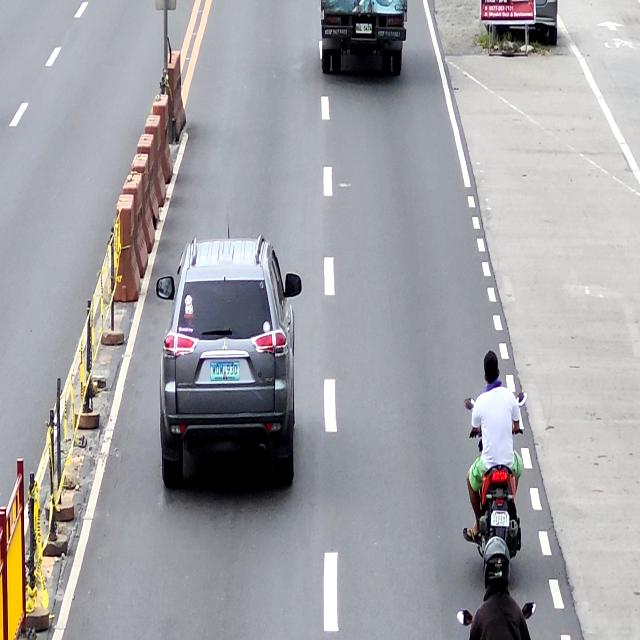Car: (155, 238, 301, 489)
License-Plate: (210, 362, 239, 382), (490, 510, 510, 530), (355, 22, 373, 34)
Motorcycle: (464, 392, 528, 560)
Truck: (320, 0, 409, 75)
